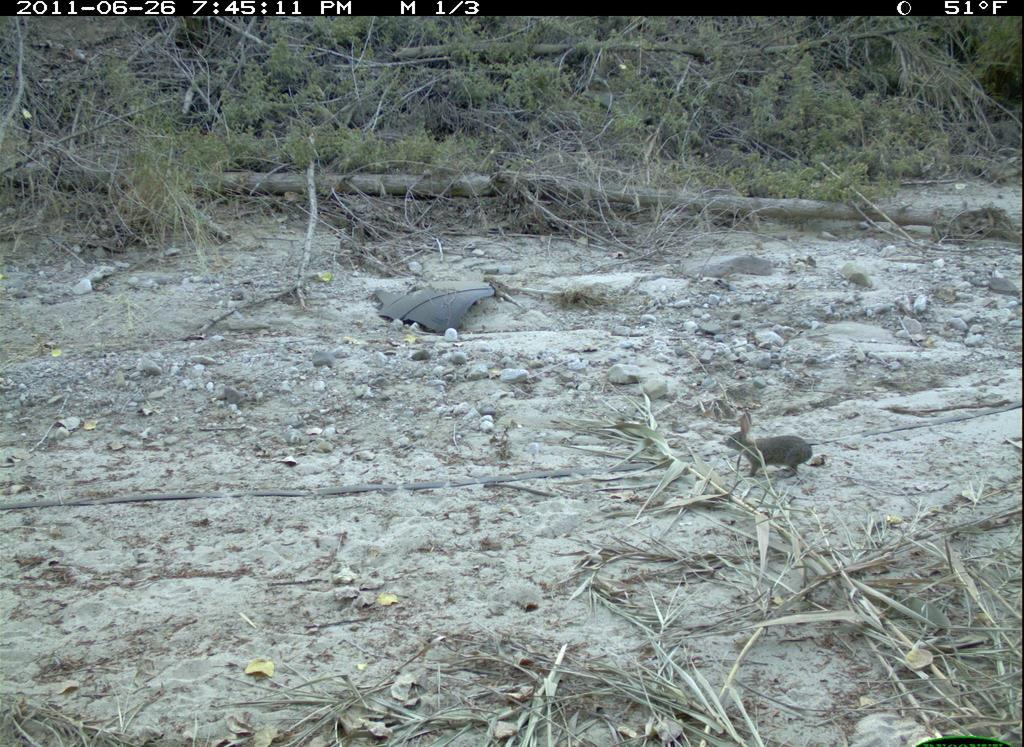rabbit: (720, 402, 824, 489)
